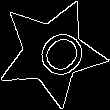O_SW: (18, 19, 86, 86)
